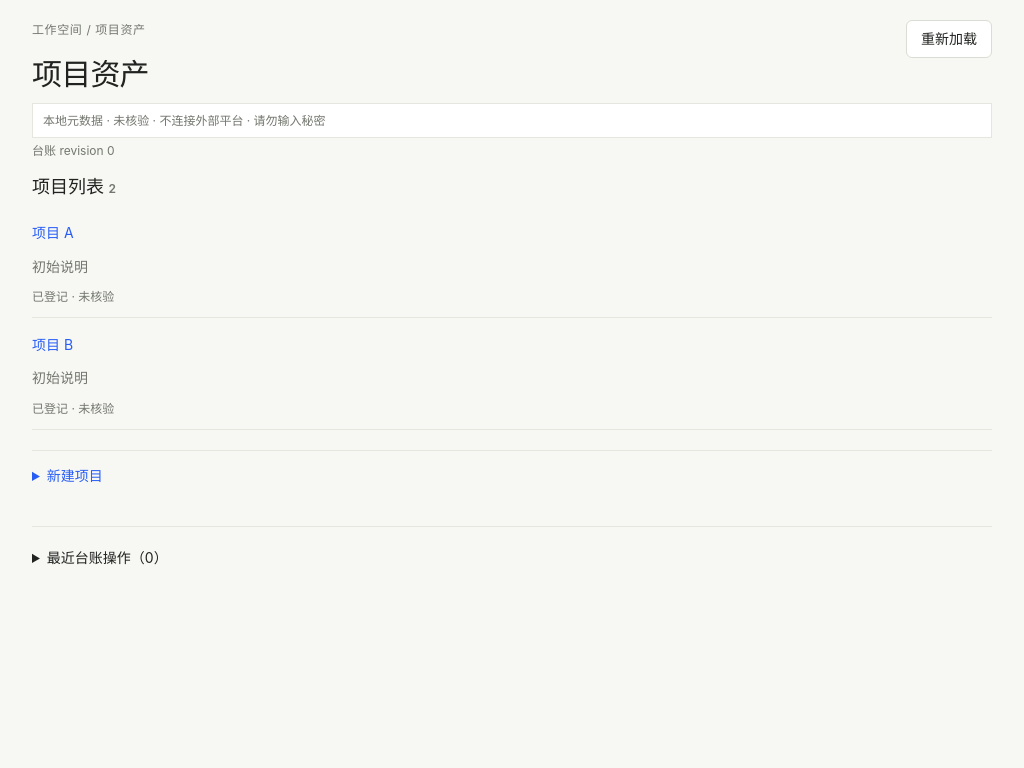
it: keeps catalog forms collapsed while existing project data and scoped counts stay visible
Expected: the heading "新建项目" is shown, [47,467,103,484]
Click the button "项目 A".
click(53, 233)  # box [32,217,74,249]
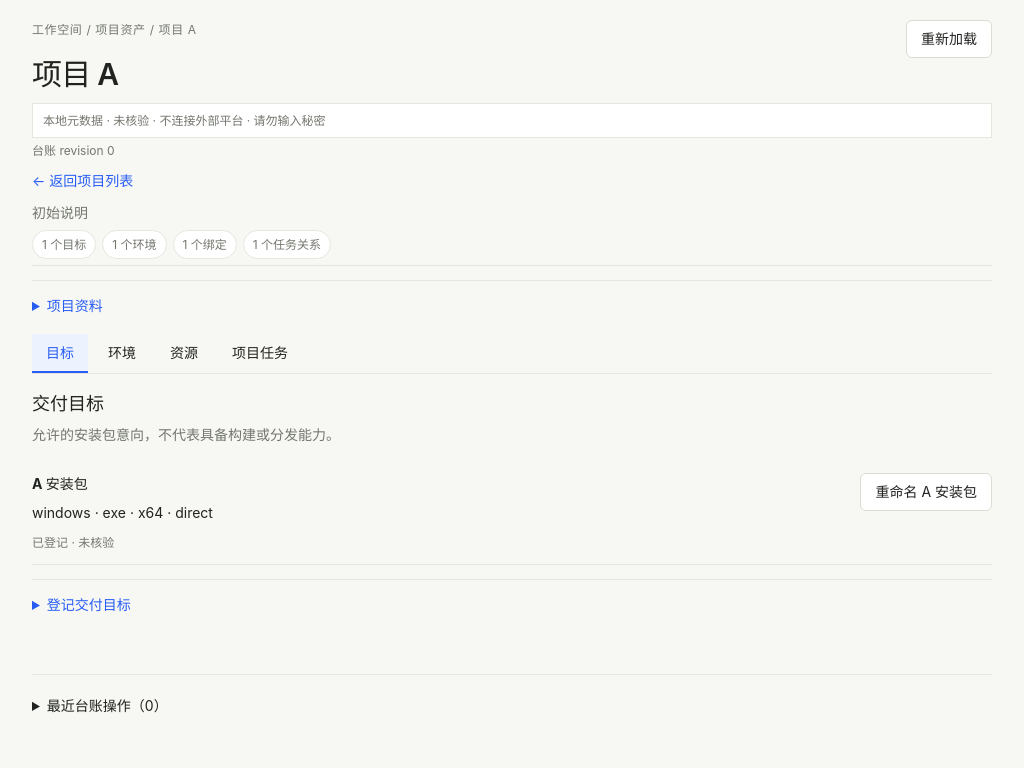
Expected: the list item "1 个目标" is shown, [32,230,96,259]
Expected: the list item "1 个环境" is shown, [102,230,167,259]
Expected: the list item "1 个绑定" is shown, [173,230,237,259]
Click the button "环境".
click(122, 353)  # box [94,334,150,373]
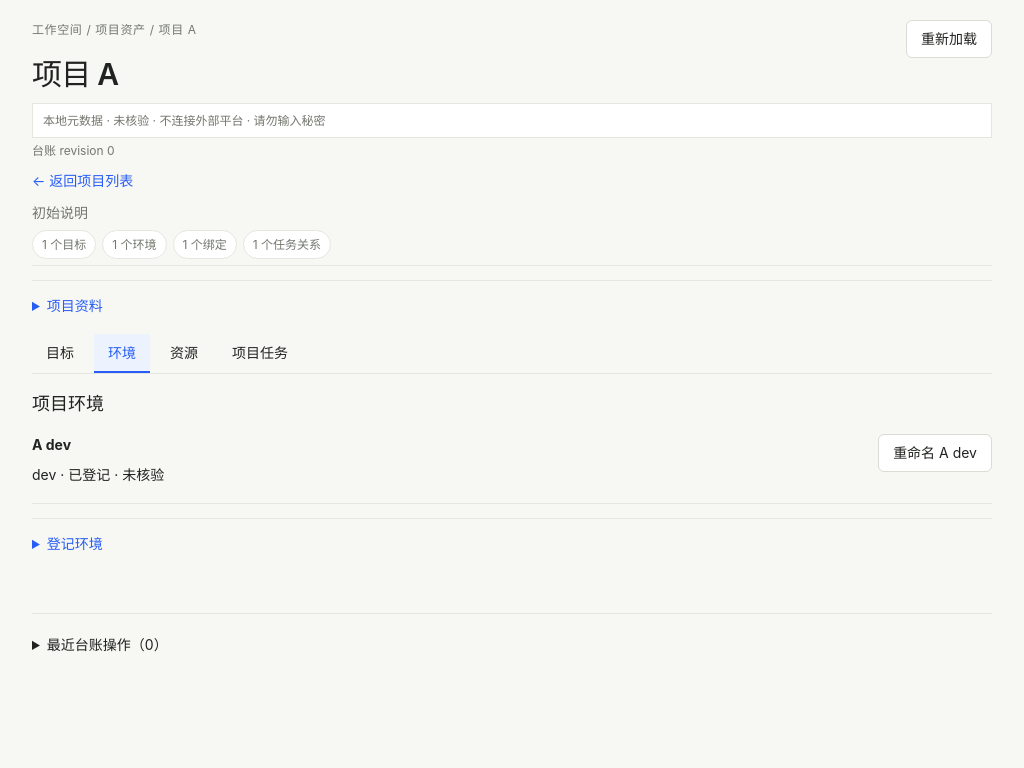
Expected: the text "A dev" is shown, [32,436,71,453]
Click the button "资源".
click(184, 353)  # box [156,334,212,373]
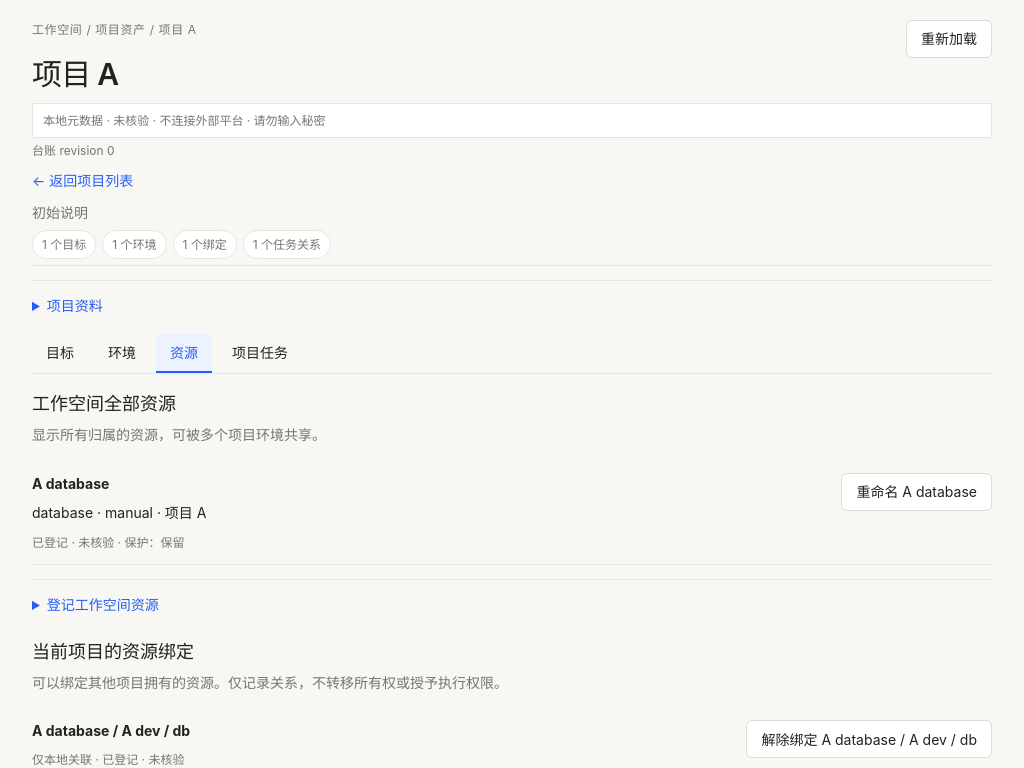
Expected: the text "A database" is shown, [32,474,109,492]
Click the button "项目任务".
click(260, 353)  # box [218,334,302,373]
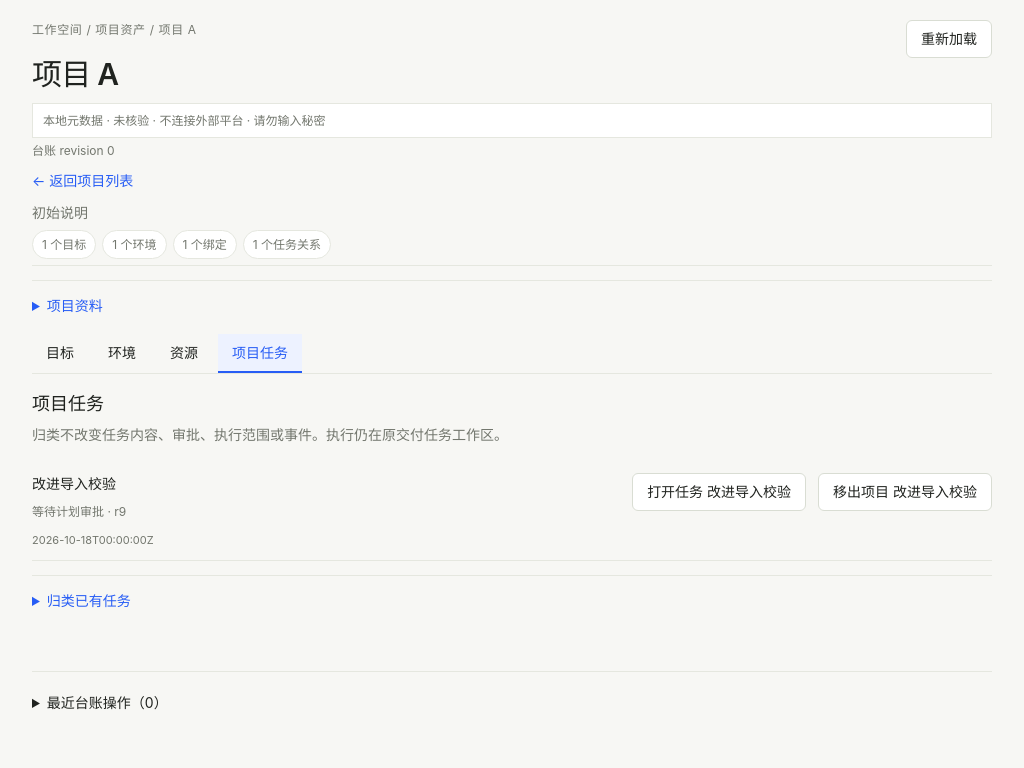
Expected: the button "打开任务 改进导入校验" is shown, [632,472,806,510]
